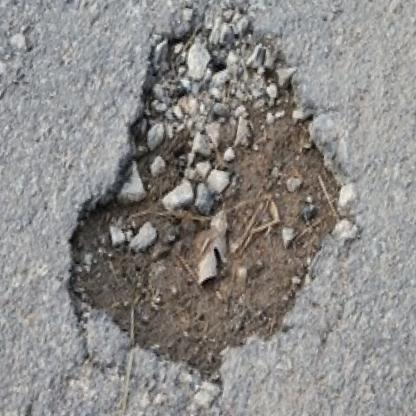pothole: (50, 0, 376, 401)
